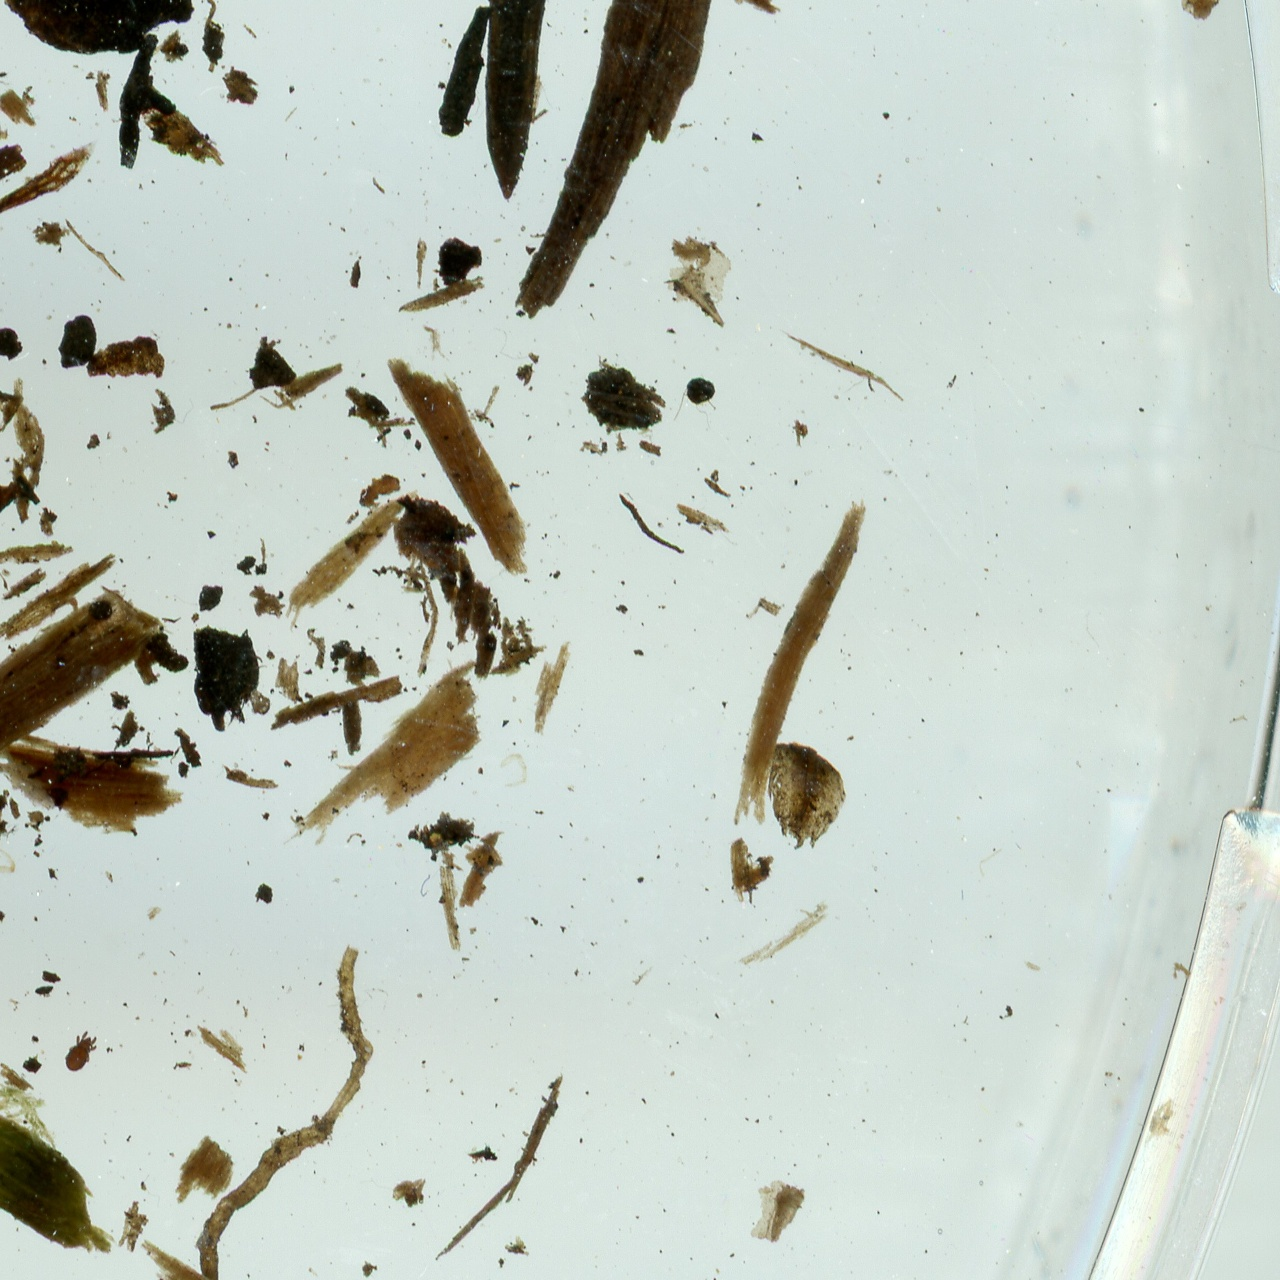arthropod: (0, 781, 26, 922), (54, 1024, 108, 1084)
